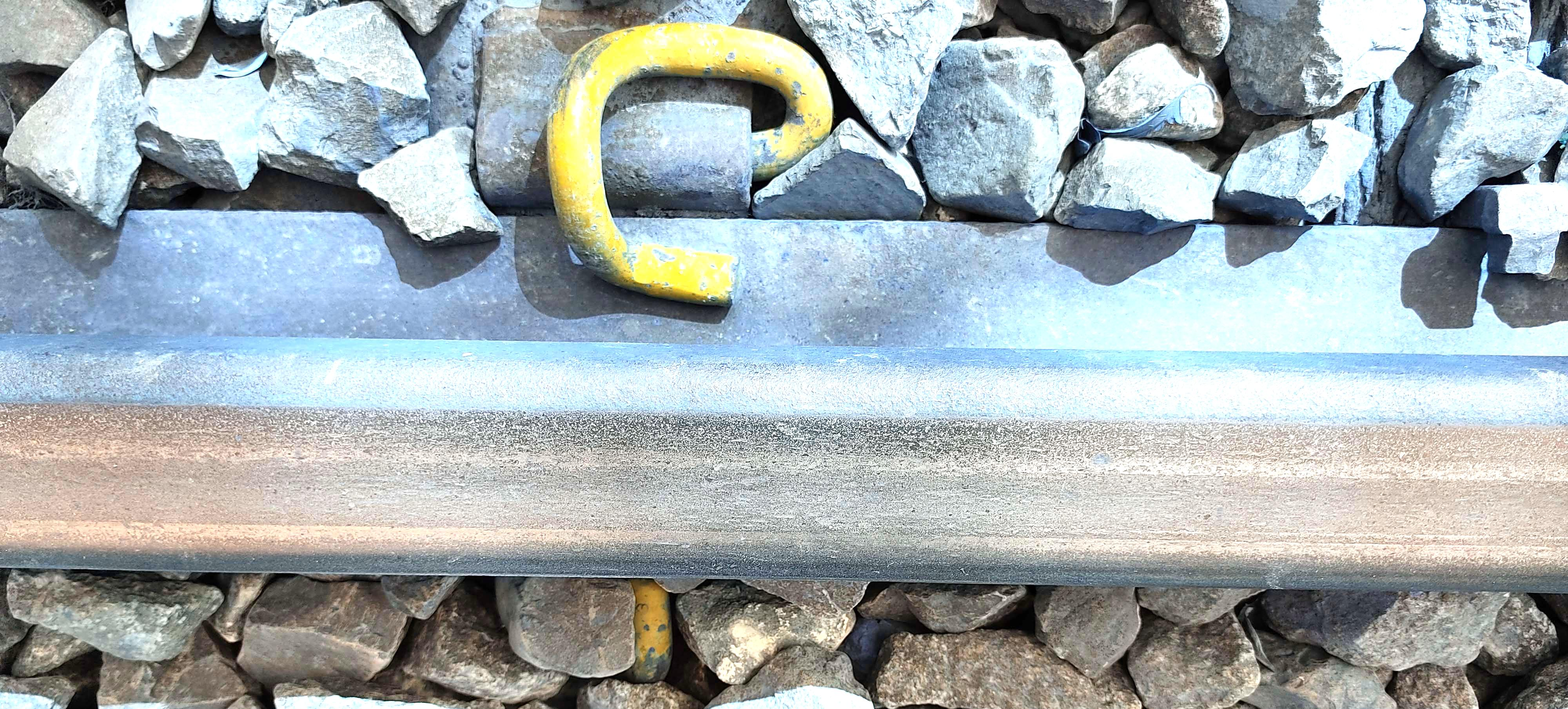Poor contact: (461, 22, 834, 303)
